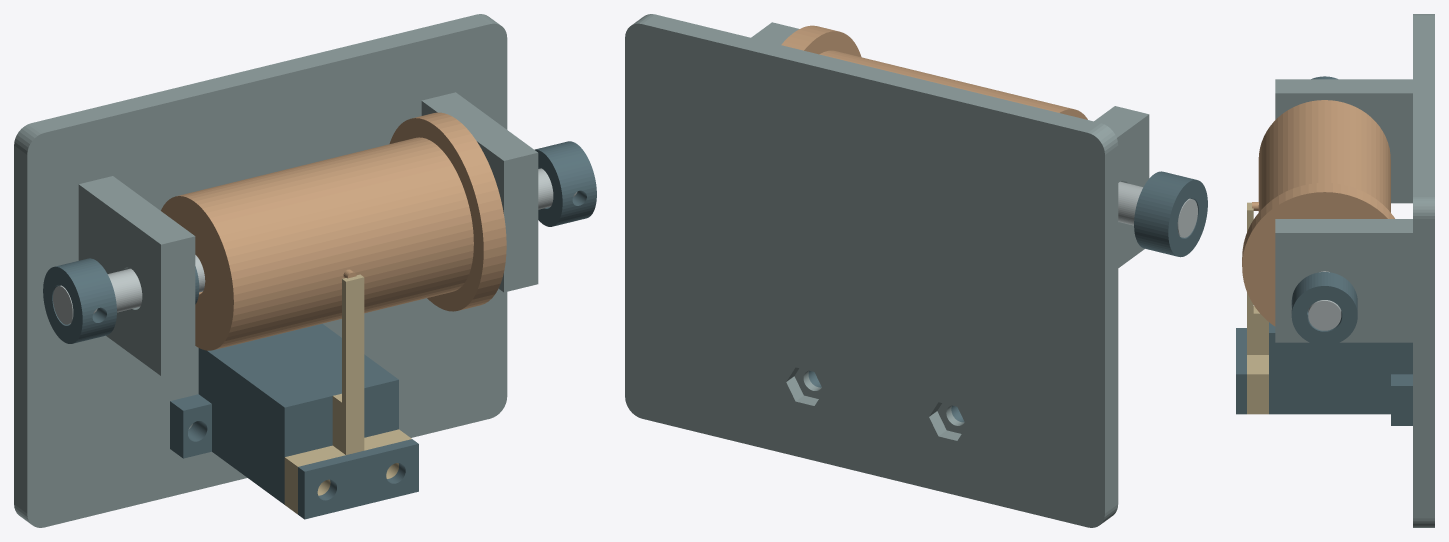
Rendered from P1_cylinder-assembly-view.glb.
The picture shows the model from 3 angles, left to right: view 1: azimuth 30°, elevation 25°; view 2: azimuth 150°, elevation 25°; view 3: azimuth 270°, elevation 25°; orthographic projection. The views are drawn at different scales.
Visible parts, largest first — view 1: 0, 4, 1, 2, 3, 8, 9, 5; view 2: 0, 8, 4, 5; view 3: 0, 4, 1, 9, 2, 3, 5.
Boxes of the visible parts, <box> form: 0: <box>14,14,538,527</box>; 4: <box>161,112,506,350</box>; 1: <box>170,323,398,504</box>; 2: <box>284,274,411,514</box>; 3: <box>298,439,418,519</box>; 8: <box>43,258,116,343</box>; 9: <box>534,141,596,226</box>; 5: <box>53,168,577,324</box>; 0: <box>625,14,1149,527</box>; 8: <box>1134,171,1207,257</box>; 4: <box>781,25,1087,119</box>; 5: <box>1118,181,1197,237</box>; 0: <box>1275,14,1434,527</box>; 4: <box>1242,100,1394,326</box>; 1: <box>1269,322,1412,425</box>; 9: <box>1291,272,1357,345</box>; 2: <box>1247,202,1268,414</box>; 3: <box>1236,328,1246,414</box>; 5: <box>1308,271,1341,330</box>.
Bounding box in the file's own units: 0.09 × 0.066 × 0.0361.
